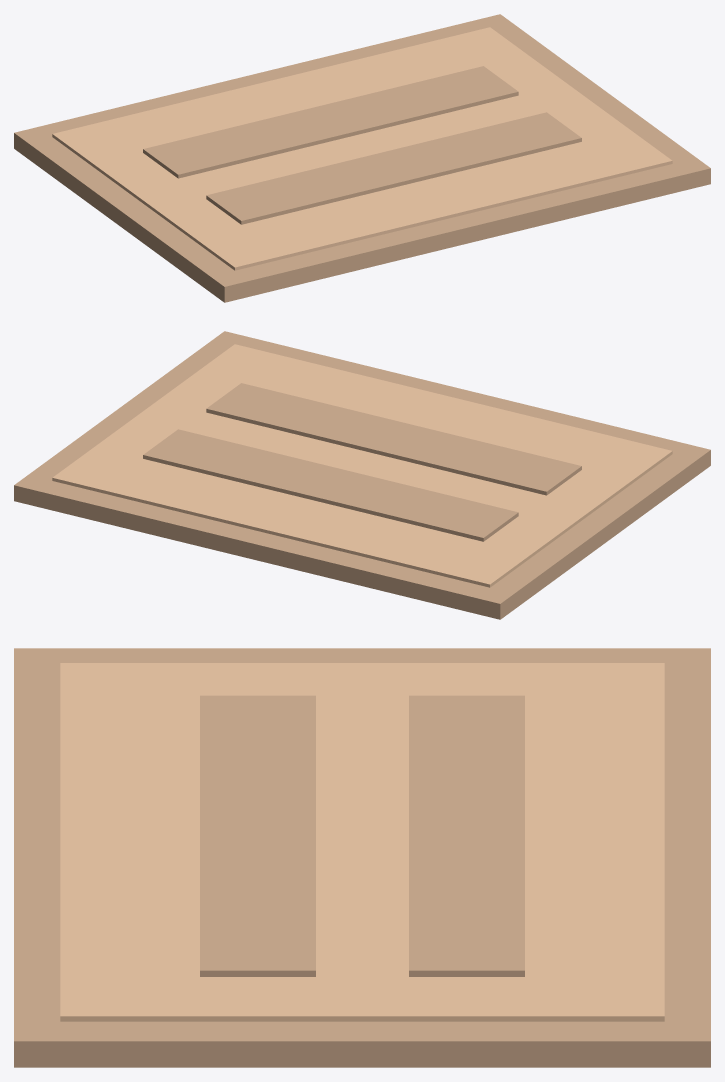
File: rugDoormatCoir.glb
3 views of the same model, one above another, from view 1: azimuth 30°, elevation 25°; view 2: azimuth 150°, elevation 25°; view 3: azimuth 270°, elevation 25° (orthographic). The views are drawn at different scales.
Parts seen in each view (by area): view 1: rugDoormatCoir; view 2: rugDoormatCoir; view 3: rugDoormatCoir.
Boxes of the visible parts, x1,y1,x2,y2 form: rugDoormatCoir: [14, 14, 710, 302]; rugDoormatCoir: [14, 331, 710, 619]; rugDoormatCoir: [14, 648, 710, 1067].
Bounding box in the file's own units: 0.4 × 0.018 × 0.3.
